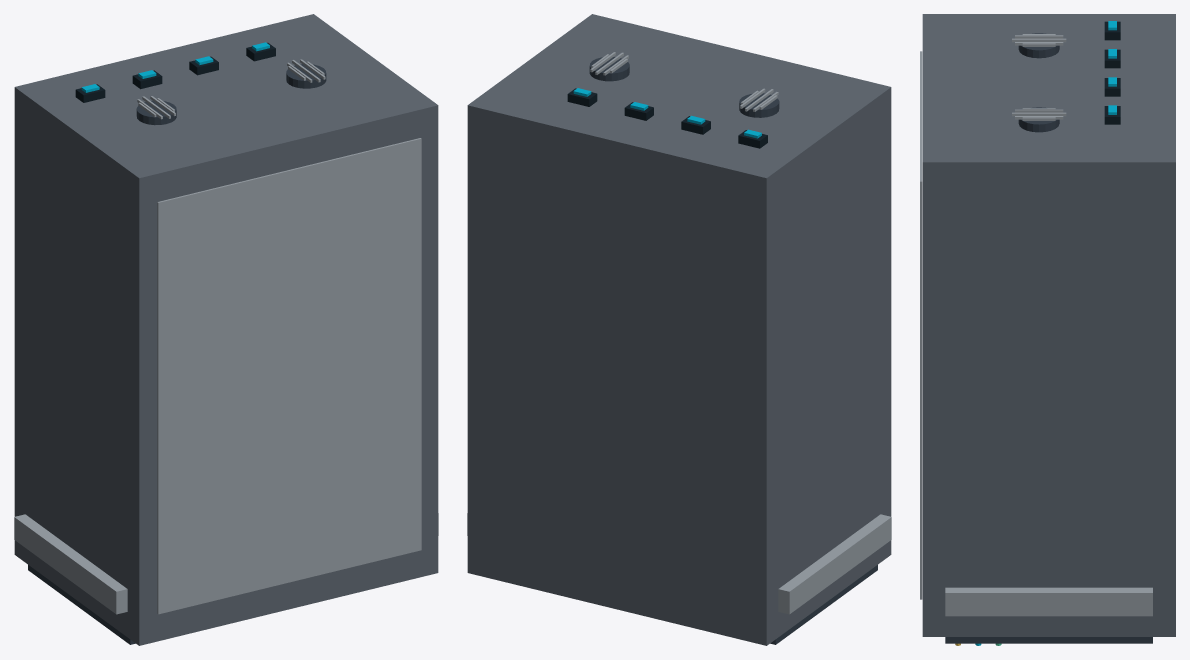
The model's file is dell_poweredge_r960.glb.
The picture shows the model from 3 angles, left to right: view 1: azimuth 30°, elevation 25°; view 2: azimuth 150°, elevation 25°; view 3: azimuth 270°, elevation 25°; orthographic projection.
Visible parts, largest first — view 1: 000_server chassis, 103_top seam, 104_rack mounting ear, 001_front bezel; view 2: 000_server chassis, 104_rack mounting ear, 001_front bezel; view 3: 000_server chassis, 107_rack mounting ear, 103_top seam, 001_front bezel, 086_rear fan 2, 077_rear fan 1.
Part boxes in pixels (x1=…): 000_server chassis: x1=14, y1=14, x2=438, y2=645; 103_top seam: x1=157, y1=138, x2=421, y2=614; 104_rack mounting ear: x1=14, y1=514, x2=127, y2=614; 001_front bezel: x1=28, y1=565, x2=135, y2=644; 000_server chassis: x1=467, y1=14, x2=891, y2=645; 104_rack mounting ear: x1=778, y1=514, x2=891, y2=614; 001_front bezel: x1=770, y1=565, x2=877, y2=644; 000_server chassis: x1=922, y1=14, x2=1175, y2=636; 107_rack mounting ear: x1=945, y1=587, x2=1152, y2=616; 103_top seam: x1=920, y1=51, x2=922, y2=599; 001_front bezel: x1=945, y1=637, x2=1152, y2=643; 086_rear fan 2: x1=1018, y1=107, x2=1059, y2=132; 077_rear fan 1: x1=1018, y1=33, x2=1059, y2=58.
Bounding box in the file's own units: 0.5193 × 0.7635 × 0.3515.
